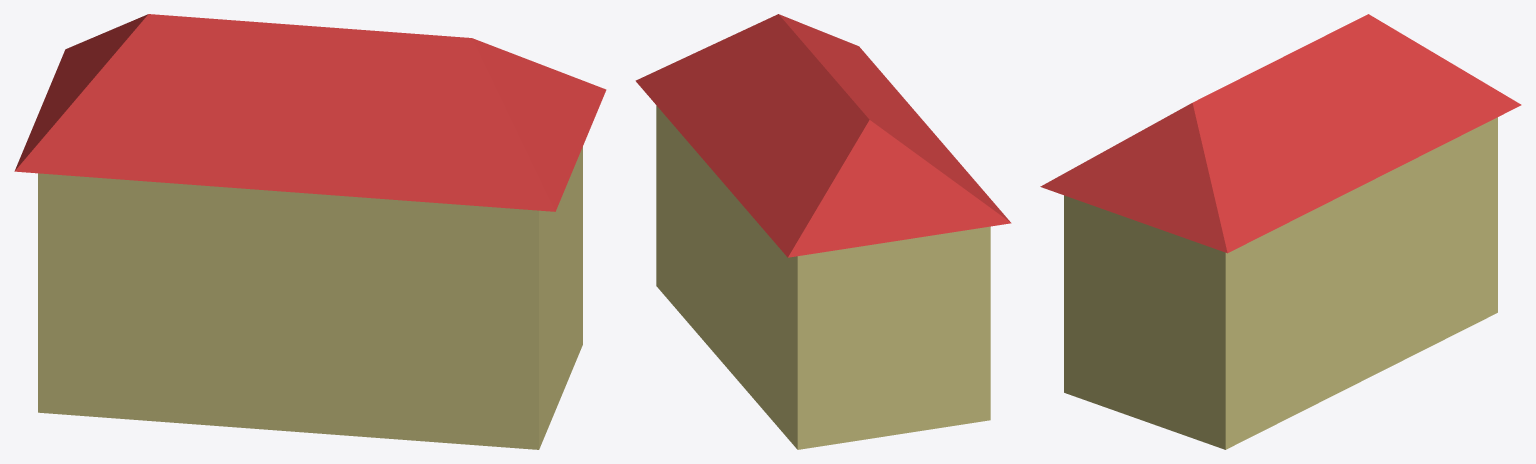
3 views of the same model, side by side, from view 1: azimuth 30°, elevation 25°; view 2: azimuth 150°, elevation 25°; view 3: azimuth 270°, elevation 25° (orthographic). The views are drawn at different scales.
Visible parts, largest first — view 1: group_5, group_3, group_4; view 2: group_5, group_3, group_4; view 3: group_5, group_3.
Part boxes in pixels (left/top/right/bottom): group_5: left=38, top=147, right=582, bottom=449; group_3: left=14, top=14, right=606, bottom=211; group_4: left=15, top=126, right=555, bottom=211; group_5: left=656, top=105, right=990, bottom=449; group_3: left=635, top=14, right=1010, bottom=257; group_4: left=638, top=43, right=1011, bottom=223; group_5: left=1064, top=117, right=1497, bottom=449; group_3: left=1040, top=14, right=1521, bottom=253.
Bounding box in the file's own units: 22.5 × 21.33 × 14.37.
